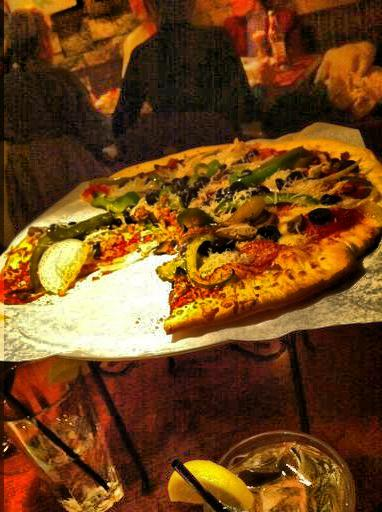pizza: (8, 130, 373, 345)
